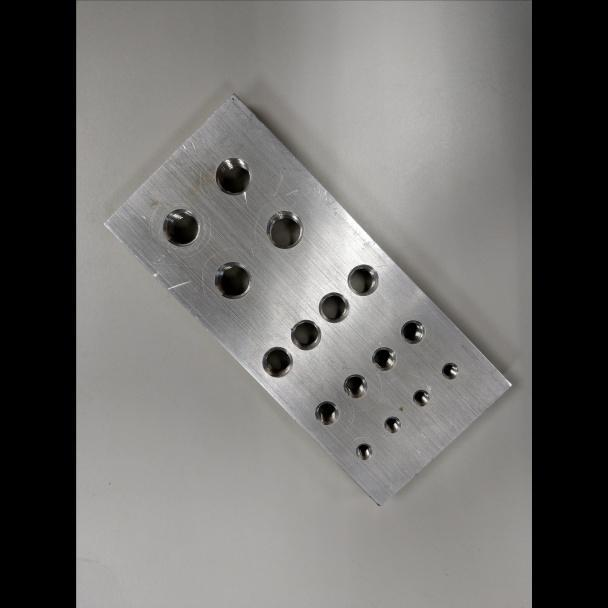hole: (264, 210, 304, 250), (213, 261, 253, 300), (161, 207, 200, 247), (214, 157, 253, 195), (260, 345, 293, 378), (346, 263, 379, 296), (289, 319, 322, 351), (317, 291, 350, 323), (313, 400, 340, 426), (342, 373, 368, 399), (370, 346, 397, 371), (399, 319, 425, 344), (440, 361, 459, 380), (411, 389, 430, 407), (354, 442, 372, 461), (383, 416, 401, 433)
